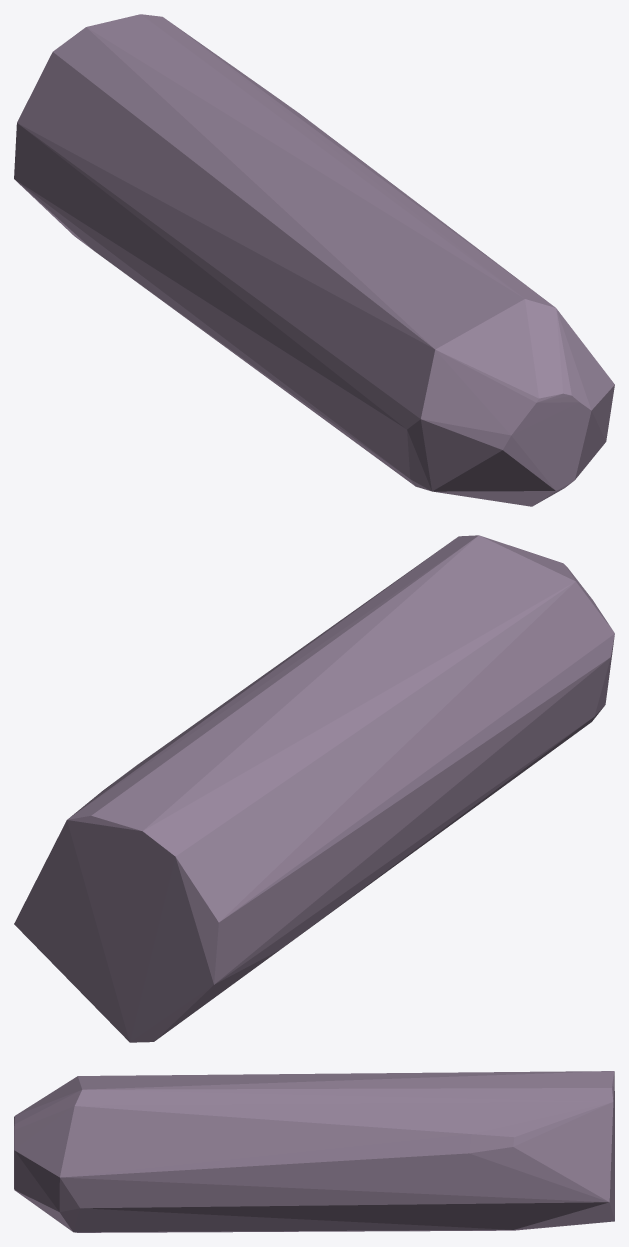
The model's file is consumable_additive_egr_cleaner_a01.glb.
3 renders of one model, top to bottom at view 1: azimuth 30°, elevation 25°; view 2: azimuth 150°, elevation 25°; view 3: azimuth 270°, elevation 25°, orthographic. The views are drawn at different scales.
Visible parts, largest first — view 1: geometry_0; view 2: geometry_0; view 3: geometry_0.
Part boxes in pixels (left/top/right/bottom): geometry_0: left=14, top=14, right=614, bottom=506; geometry_0: left=14, top=535, right=614, bottom=1042; geometry_0: left=14, top=1071, right=614, bottom=1232.
Size of the model in its own units: 0.1292 by 0.1307 by 0.48.
